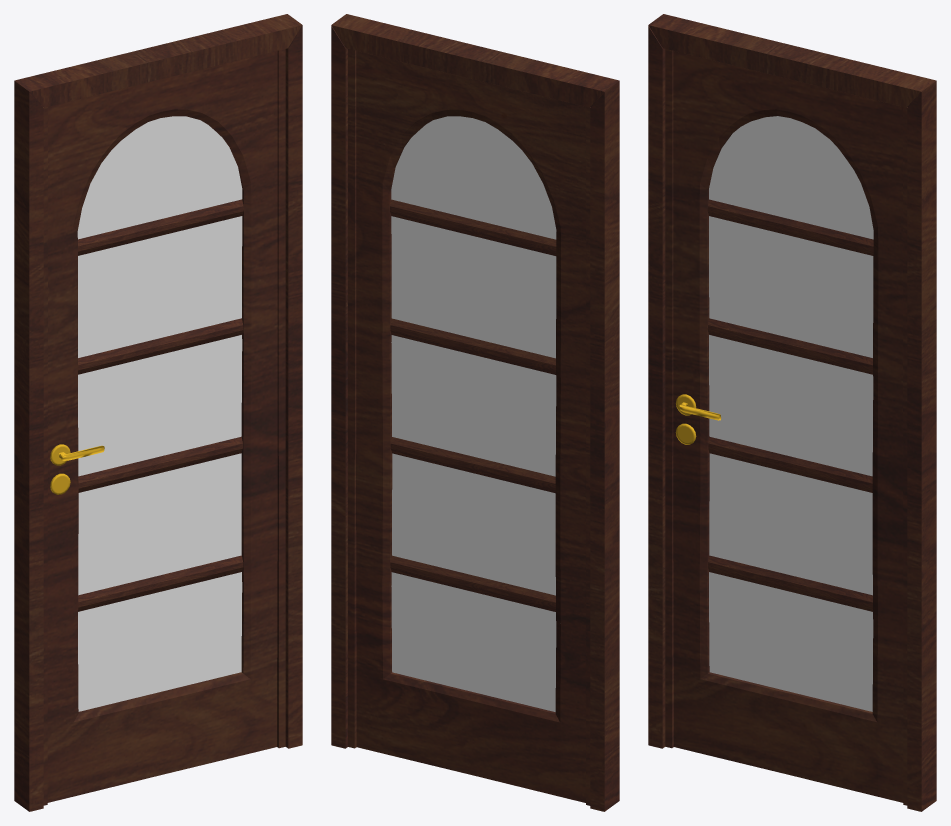
File: PUERTA51_TAMIGI.glb
3 views of the same model, side by side, from view 1: azimuth 30°, elevation 25°; view 2: azimuth 150°, elevation 25°; view 3: azimuth 330°, elevation 25° (orthographic).
Visible parts, largest first — view 1: Puerta51_TAMIGI, CRISTAL_GRANDE, Puerta51_Marco, Puerta51_Cerradura; view 2: Puerta51_TAMIGI, CRISTAL_GRANDE, Puerta51_Marco; view 3: Puerta51_TAMIGI, CRISTAL_GRANDE, Puerta51_Marco, Puerta51_Cerradura.
Part boxes in pixels (box(x1,y1,x2,y2)): Puerta51_TAMIGI: box(43, 49, 285, 805); CRISTAL_GRANDE: box(77, 116, 242, 711); Puerta51_Marco: box(14, 14, 302, 811); Puerta51_Cerradura: box(50, 444, 104, 494); Puerta51_TAMIGI: box(348, 49, 590, 805); CRISTAL_GRANDE: box(391, 116, 556, 711); Puerta51_Marco: box(331, 14, 619, 811); Puerta51_TAMIGI: box(665, 49, 907, 805); CRISTAL_GRANDE: box(709, 116, 873, 711); Puerta51_Marco: box(648, 14, 936, 811); Puerta51_Cerradura: box(675, 394, 721, 444).
Bounding box in the file's own units: 769 × 1936 × 85.
5 materials, 3 textured.
